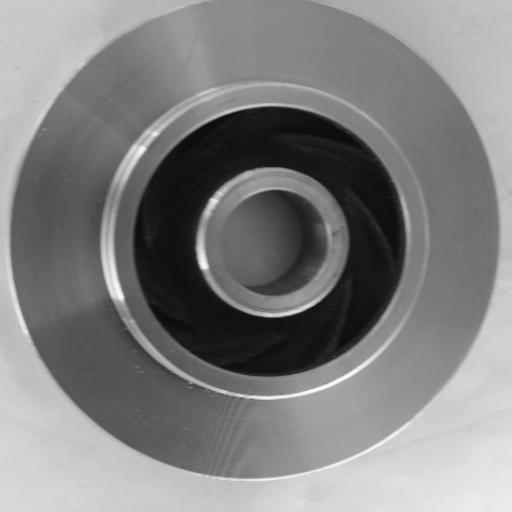polished_casting: (12, 1, 501, 482)
